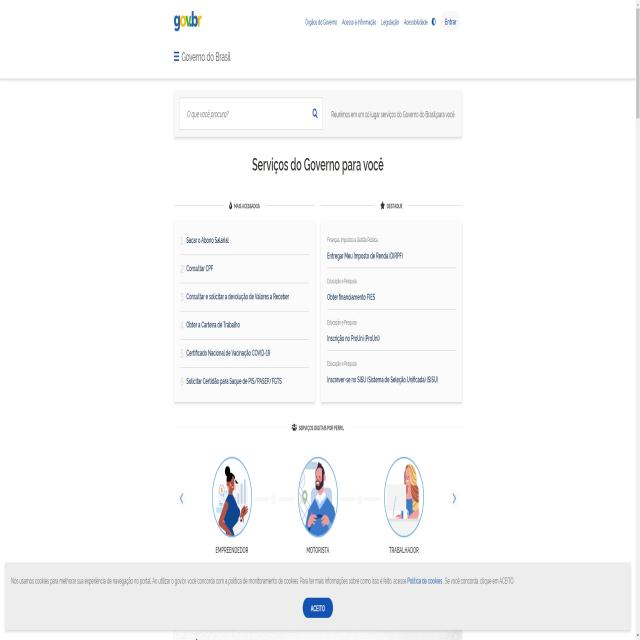menu-bar: (303, 9, 461, 33)
search: (177, 96, 325, 135)
